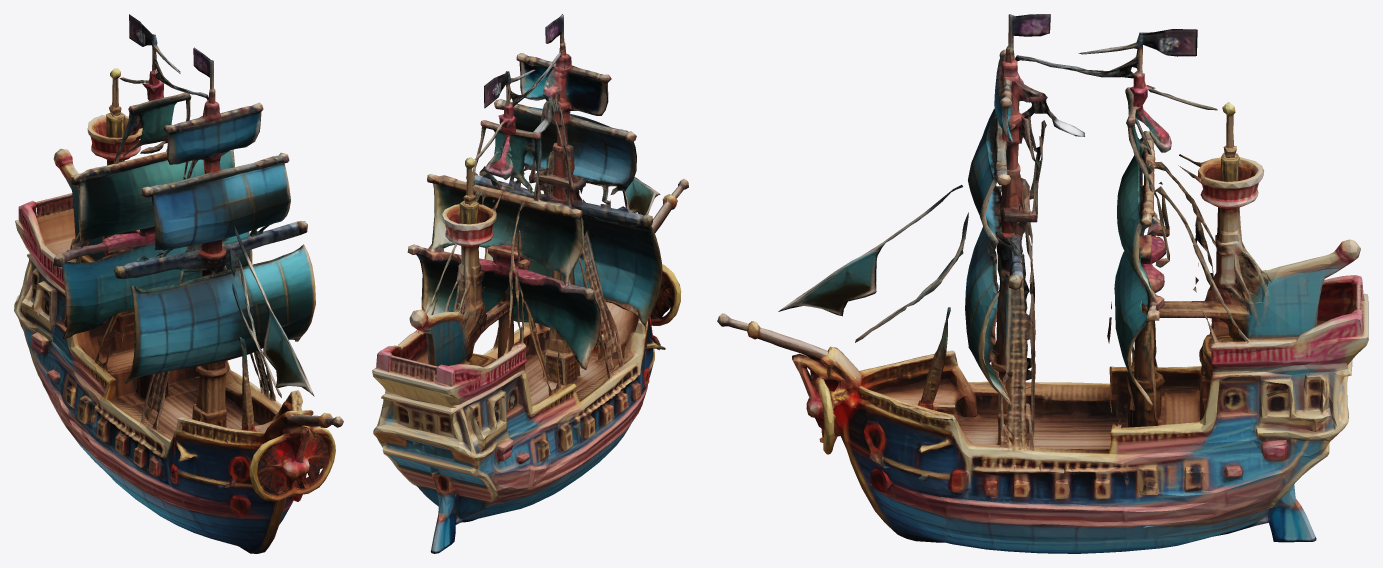
The picture shows the model from 3 angles, left to right: view 1: azimuth 30°, elevation 25°; view 2: azimuth 150°, elevation 25°; view 3: azimuth 270°, elevation 25°; orthographic projection. The views are drawn at different scales.
Visible parts, largest first — view 1: world; view 2: world; view 3: world.
Boxes of the visible parts, box(x1,y1,x2,y2) form: world: box(14, 14, 343, 553); world: box(372, 14, 688, 553); world: box(717, 14, 1368, 553).
Bounding box in the file's own units: 0.3855 × 0.8884 × 0.9944.
1 material, 1 textured.
